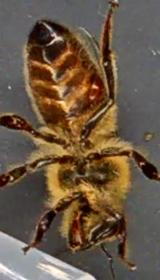varroa_mite: (76, 68, 108, 103)
